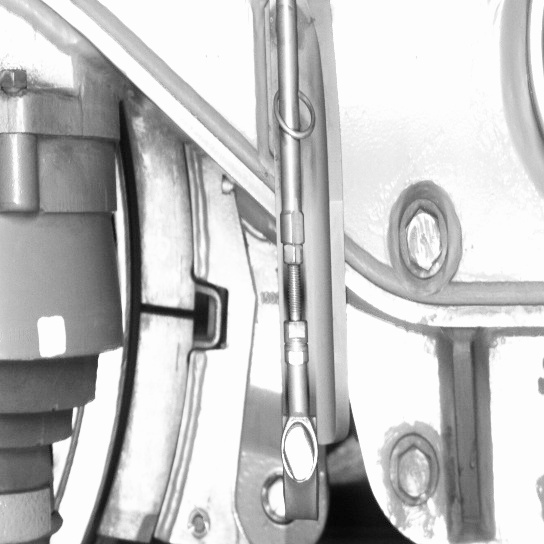KnifeSwitch: (81, 137, 212, 542)
